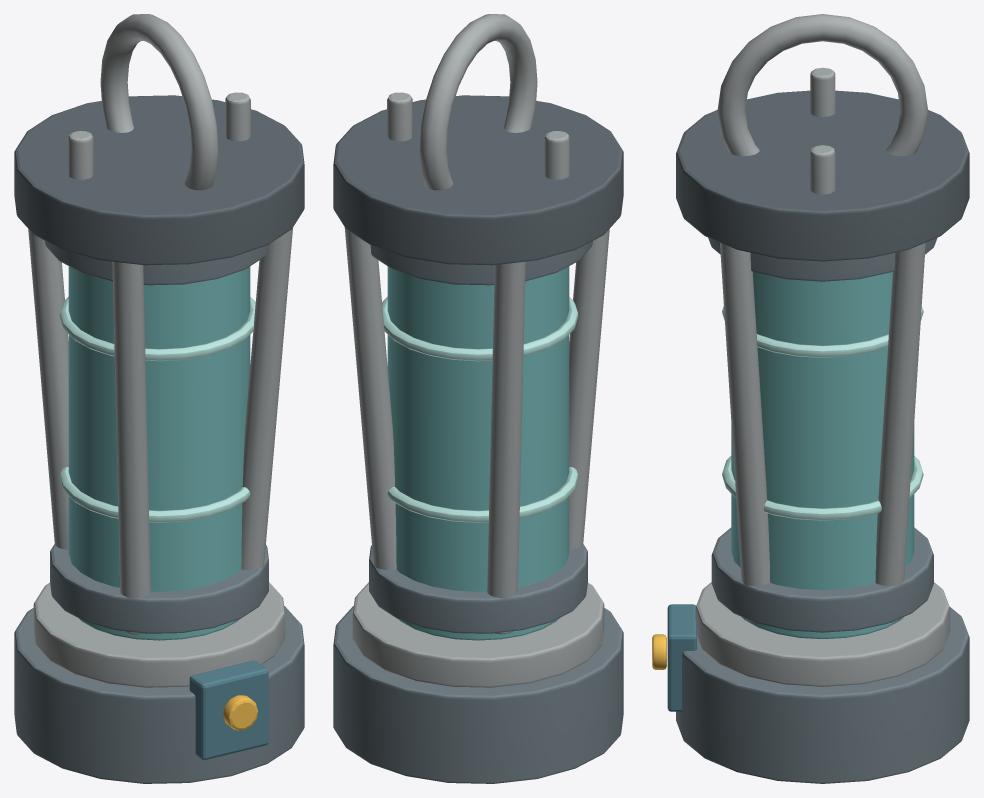
File: 14_Sanity_Beacon_Lantern.fbx
3 renders of one model, left to right at view 1: azimuth 30°, elevation 25°; view 2: azimuth 150°, elevation 25°; view 3: azimuth 270°, elevation 25°, orthographic.
Visible parts, largest first — view 1: 14_Sanity_Beacon_Lantern; view 2: 14_Sanity_Beacon_Lantern; view 3: 14_Sanity_Beacon_Lantern.
Boxes of the visible parts, box(x1,y1,x2,y2) form: 14_Sanity_Beacon_Lantern: box(14, 14, 304, 783); 14_Sanity_Beacon_Lantern: box(333, 14, 623, 783); 14_Sanity_Beacon_Lantern: box(652, 14, 969, 783).
Bounding box in the file's own units: 0.9 × 2.39 × 0.9725.
